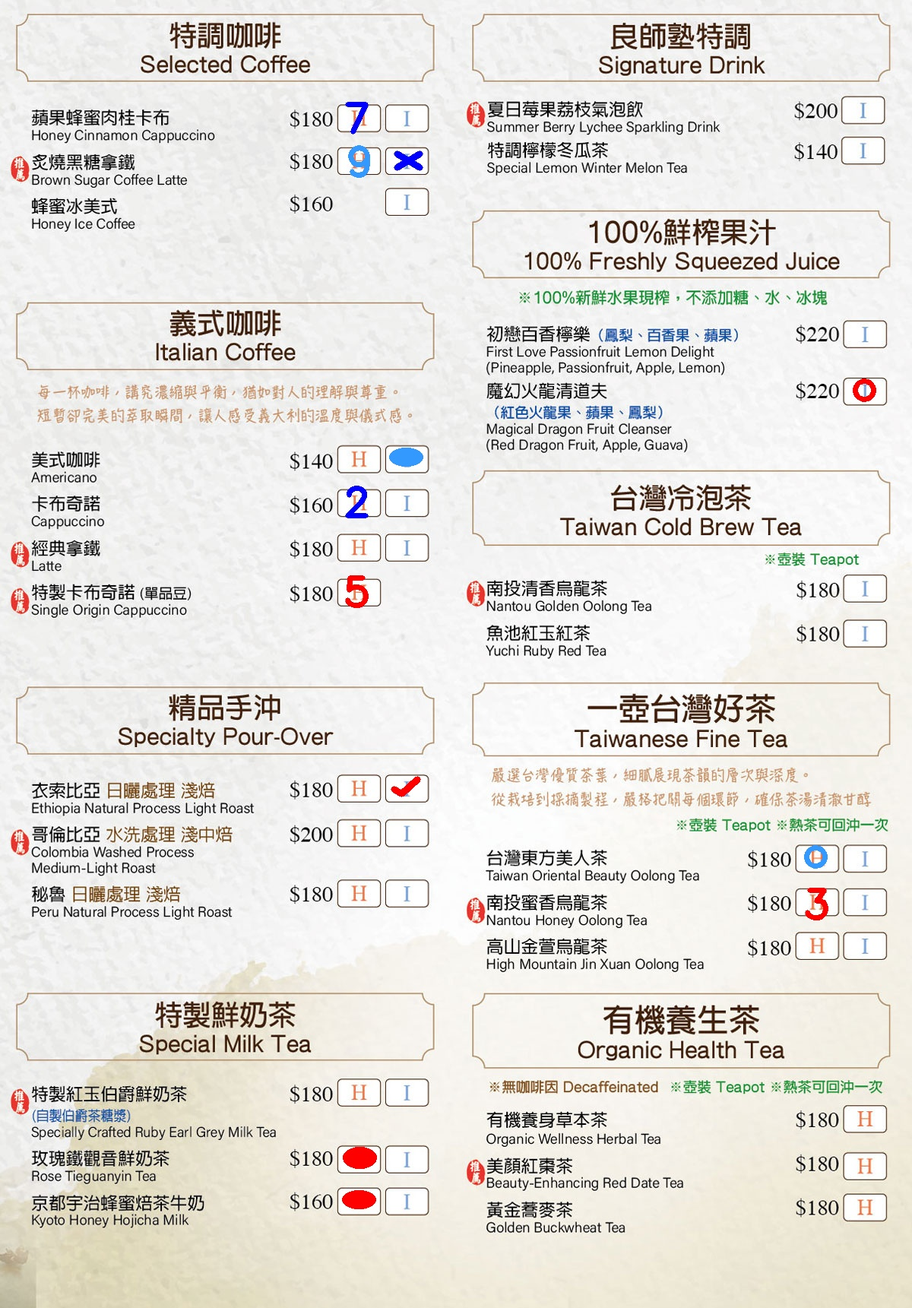marked_circle: (340, 1146, 379, 1170), (388, 446, 426, 470), (340, 1189, 379, 1212)
marked_hollow: (796, 845, 835, 869), (845, 378, 884, 402)
marked_number_2: (339, 489, 378, 513)
marked_number_3: (799, 892, 838, 915)
marked_number_5: (339, 579, 378, 603)
marked_number_7: (339, 106, 378, 129)
marked_number_9: (342, 149, 381, 173)
marked_tick: (387, 775, 426, 799)
marked_x: (389, 149, 428, 173)
